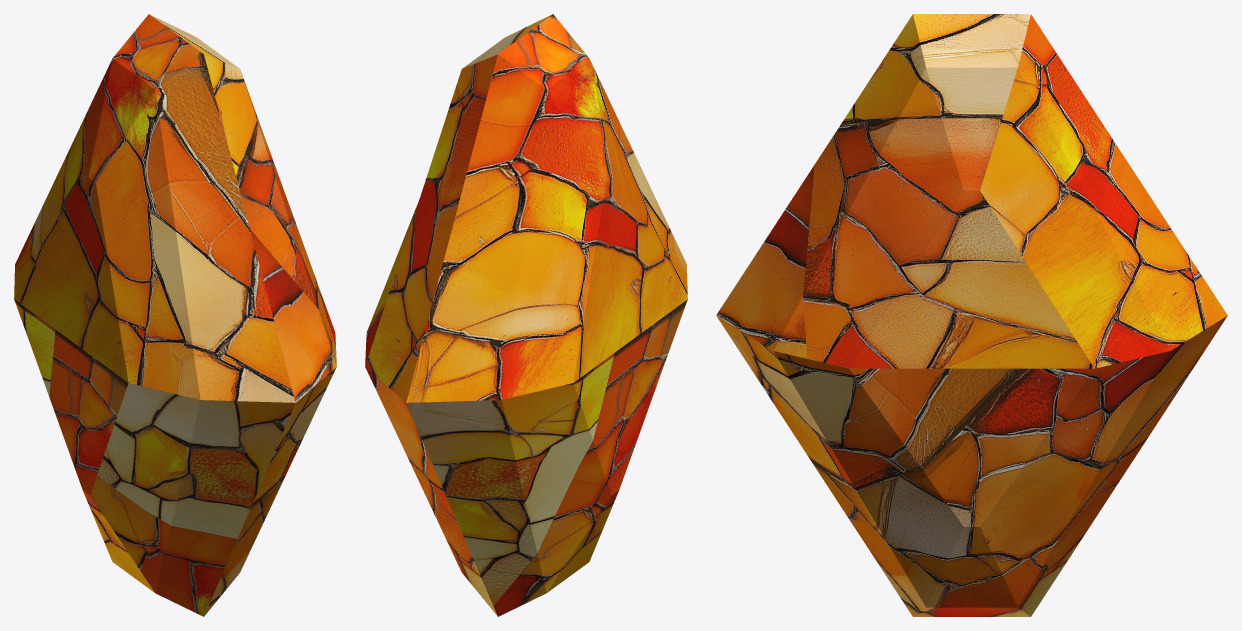
File: gemstone7Orange.glb
3 renders of one model, left to right at view 1: azimuth 30°, elevation 25°; view 2: azimuth 150°, elevation 25°; view 3: azimuth 270°, elevation 25°, orthographic. The views are drawn at different scales.
Visible parts, largest first — view 1: gemstone6; view 2: gemstone6; view 3: gemstone6.
Boxes of the visible parts, x1,y1,x2,y2 form: gemstone6: (14,14,336,616); gemstone6: (365,14,687,616); gemstone6: (716,14,1227,616).
Size of the model in its own units: 0.5 by 1.3 by 1.
Materials: 1 (1 with a texture image).
